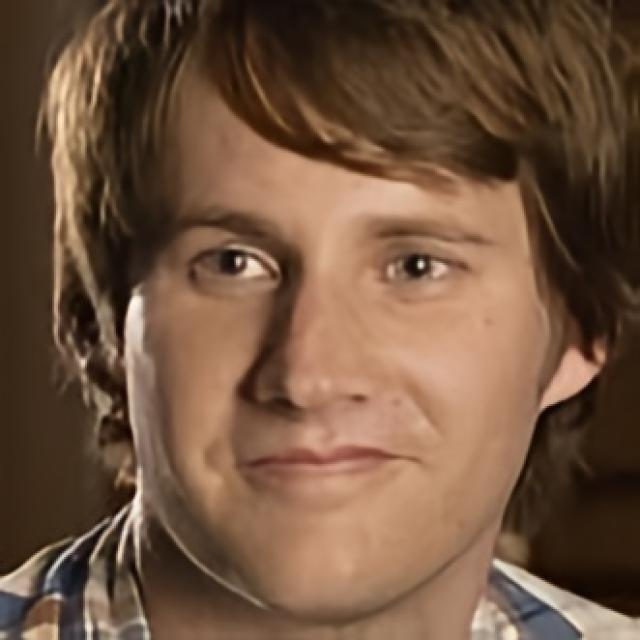content: (122, 28, 546, 622)
